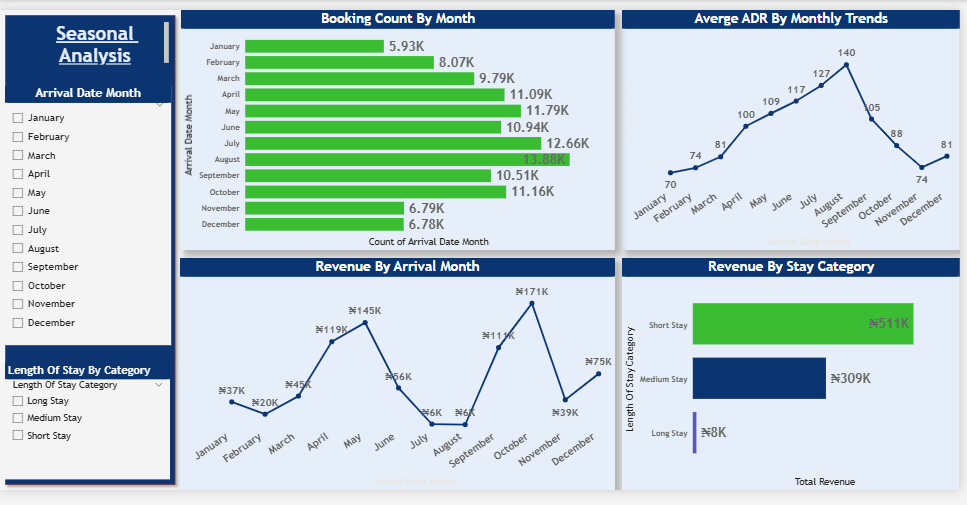

The page's visual inventory and layout, read from the dashboard file:
{"tool":"powerbi","page":{"name":"Seasonal Analysis Report","canvas":[1600,800],"ordinal":2},"visuals":[{"type":"lineChart","title":"Total Revenue By Arrival Date","fields":{"Y":["hotel_bookings.Total Revenue"],"Category":["hotel_bookings.Arrival Date Month"]},"box":[314.8,412.9,1285.2,387.1],"z":0},{"type":"shape","box":[0,0,301.1,800],"z":1000},{"type":"textbox","box":[37.8,15.5,247.7,80.9],"z":2000},{"type":"barChart","title":"Total Revenue By Length Of Stay","fields":{"Category":["hotel_bookings.Length Of Stay Category "],"Y":["hotel_bookings.Total Revenue"]},"box":[943.3,12.6,656.7,387.4],"z":3000},{"type":"lineChart","title":"Averge ADR By Monthly Trends","fields":{"Category":["hotel_bookings.Arrival Date Month"],"Y":["Avg(hotel_bookings.Adr)"]},"box":[300.8,12.6,622,389],"z":4000},{"type":"slicer","title":"Arrival Date Month","fields":{"Values":["hotel_bookings.Arrival Date Month"]},"box":[8.6,127.3,277,431.8],"z":5000},{"type":"slicer","title":"Length Of Stay By Category","fields":{"Values":["hotel_bookings.Length Of Stay Category "]},"box":[8.6,588.4,275.3,194.4],"z":6000}]}

Visuals, with their boxes on the page's 1600x800 design canvas (x1, y1, x2, y2). These are canvas units, not pixel positions in the 967x505 screenshot, which may show the page scaled, cropped or inside an application window:
"Total Revenue By Arrival Date" lineChart: (left=315, top=413, right=1600, bottom=800)
shape: (left=0, top=0, right=301, bottom=800)
textbox: (left=38, top=16, right=286, bottom=96)
"Total Revenue By Length Of Stay" barChart: (left=943, top=13, right=1600, bottom=400)
"Averge ADR By Monthly Trends" lineChart: (left=301, top=13, right=923, bottom=402)
"Arrival Date Month" slicer: (left=9, top=127, right=286, bottom=559)
"Length Of Stay By Category" slicer: (left=9, top=588, right=284, bottom=783)
